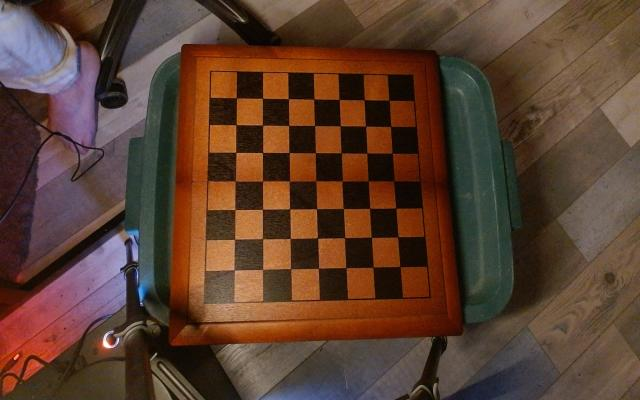corner: (198, 298, 212, 310), (423, 290, 435, 302), (206, 66, 218, 77), (408, 71, 417, 83)
